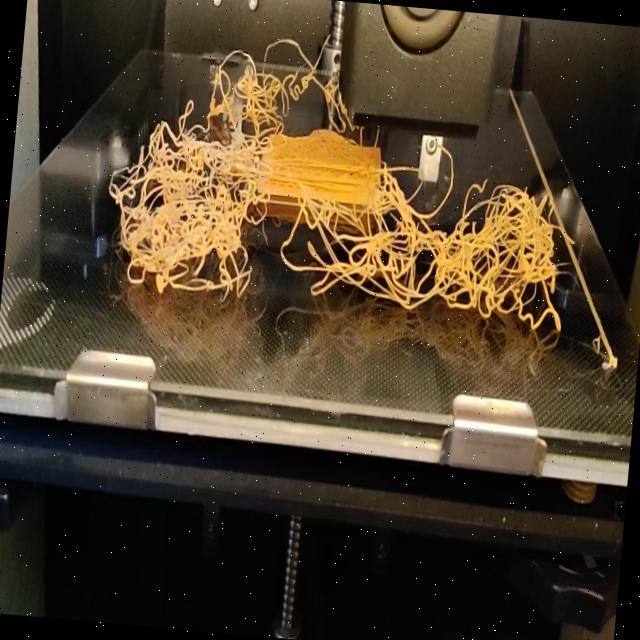spaghetti: (98, 102, 590, 339), (204, 15, 344, 116)
